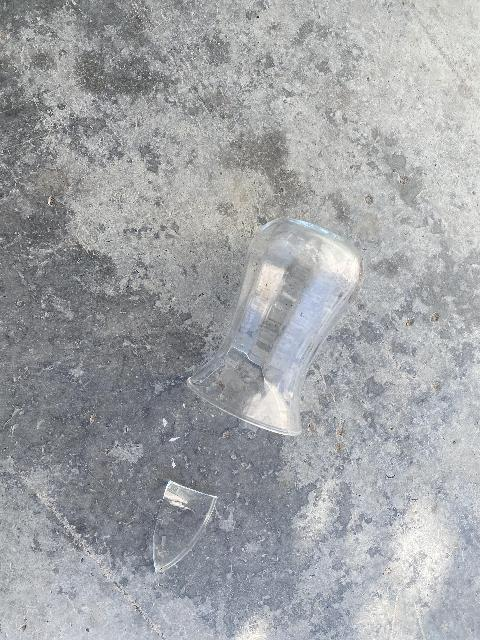Cam: (187, 211, 378, 441), (144, 477, 222, 580)
